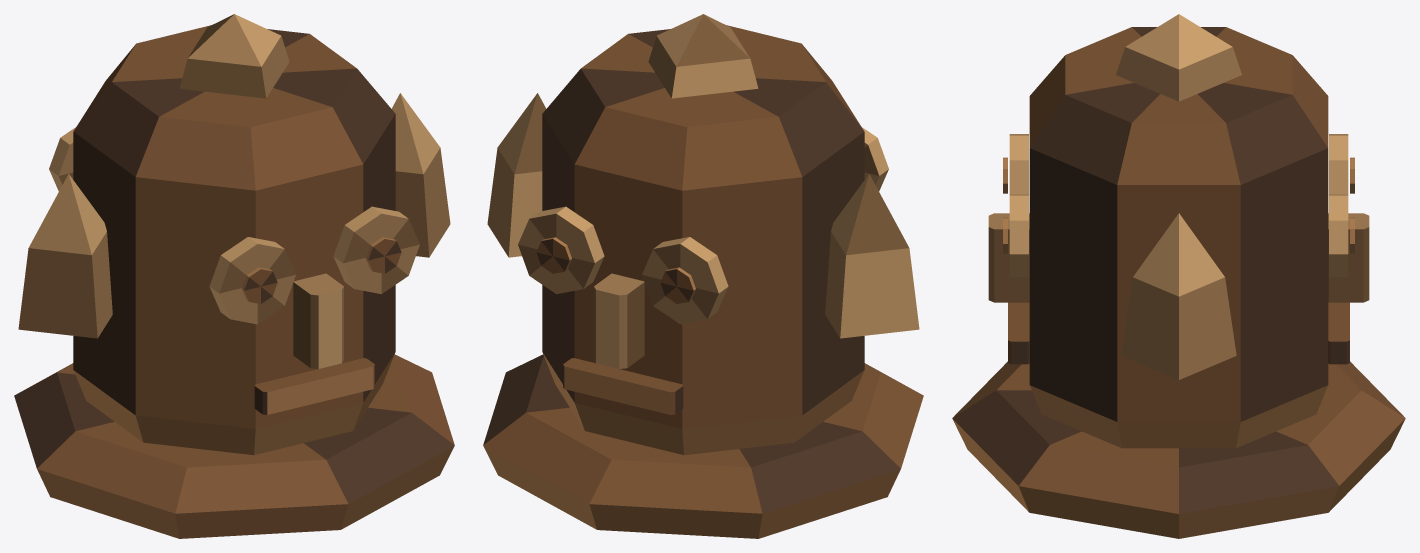
File: totem.fbx
The picture shows the model from 3 angles, left to right: view 1: azimuth 30°, elevation 25°; view 2: azimuth 150°, elevation 25°; view 3: azimuth 270°, elevation 25°; orthographic projection.
Parts seen in each view (by area): view 1: totem_body; view 2: totem_body; view 3: totem_body.
Part boxes in pixels (bbox=[...]): totem_body: bbox=[14, 14, 454, 538]; totem_body: bbox=[483, 14, 923, 538]; totem_body: bbox=[952, 14, 1405, 538].
Size of the model in its own units: 2.58 by 2.5 by 2.36.
Materials: 1 (1 with a texture image).
